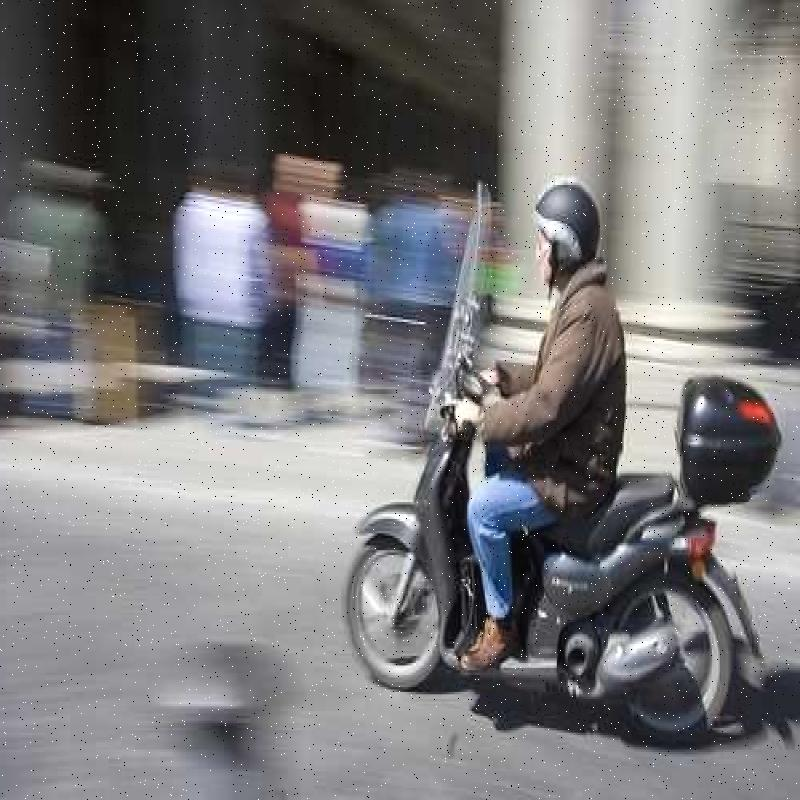bike: (339, 330, 742, 716)
